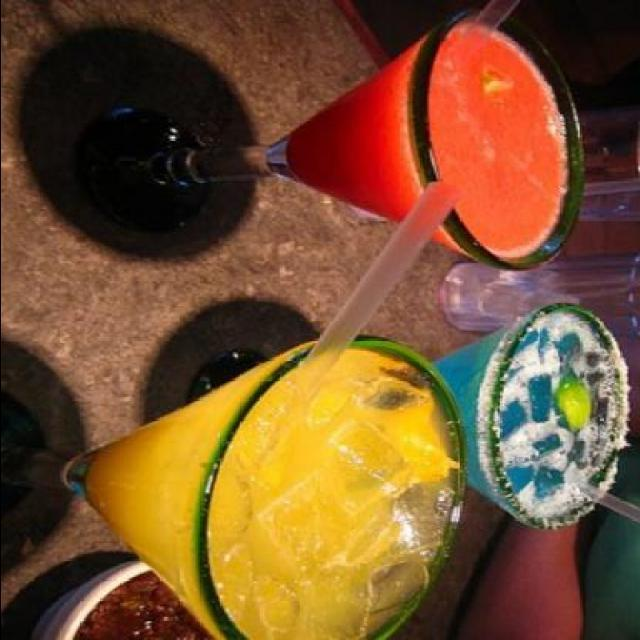Juice: (47, 349, 473, 640), (263, 5, 597, 273), (428, 300, 630, 532)
